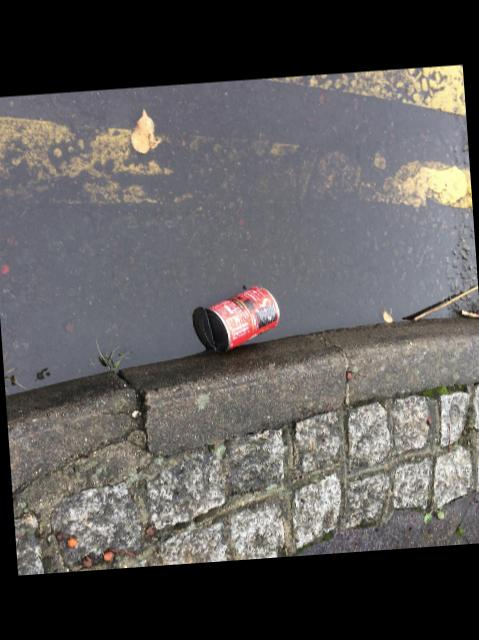metal: (191, 286, 278, 352)
